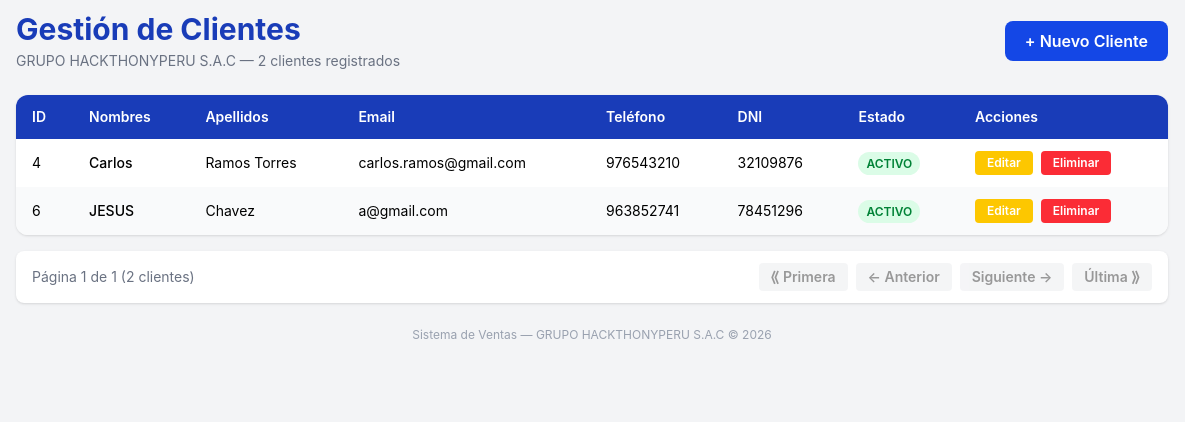
Componente Clientes - Pruebas Unitarias › Debe permitir eliminar un cliente tras confirmar
Expected: the text "Carlos" is shown, [73, 139, 189, 187]
Step 1. Click the button "Eliminar" in the row of "Ramos Torres" → (1076, 163), box [1041, 151, 1111, 175]
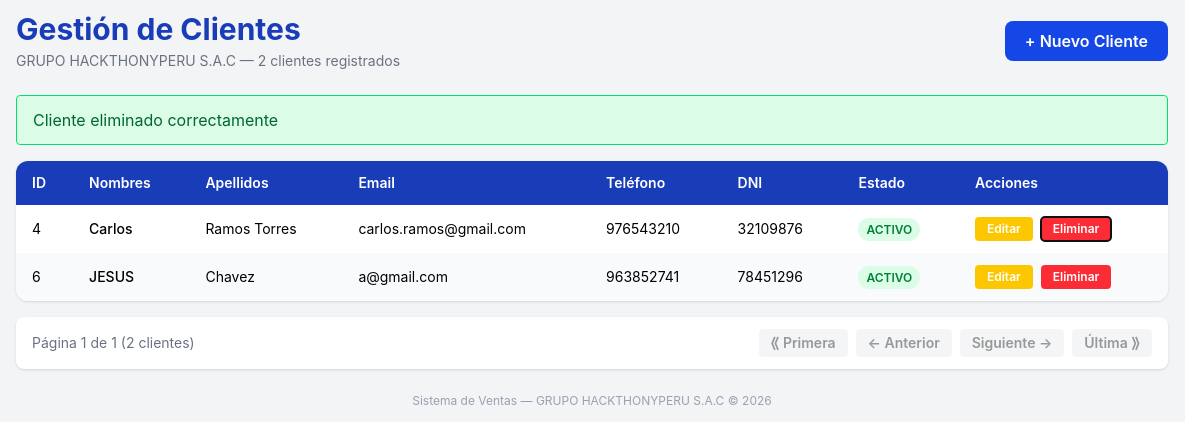
Expected: the text "Cliente eliminado correctamente" is shown, [16, 95, 1168, 145]
